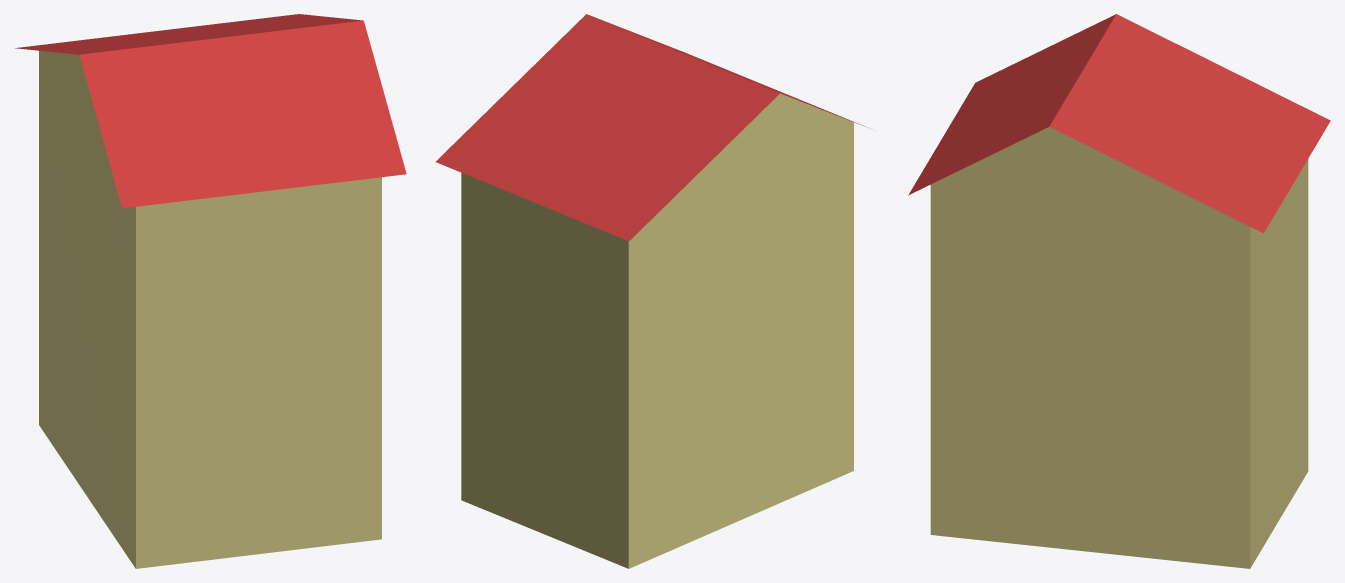
The picture shows the model from 3 angles, left to right: view 1: azimuth 30°, elevation 25°; view 2: azimuth 150°, elevation 25°; view 3: azimuth 270°, elevation 25°; orthographic projection. The views are drawn at different scales.
Size of the model in its own units: 4.8 by 5.69 by 6.36.
